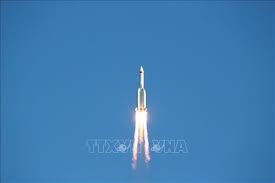ten_lua: (134, 64, 151, 115)
